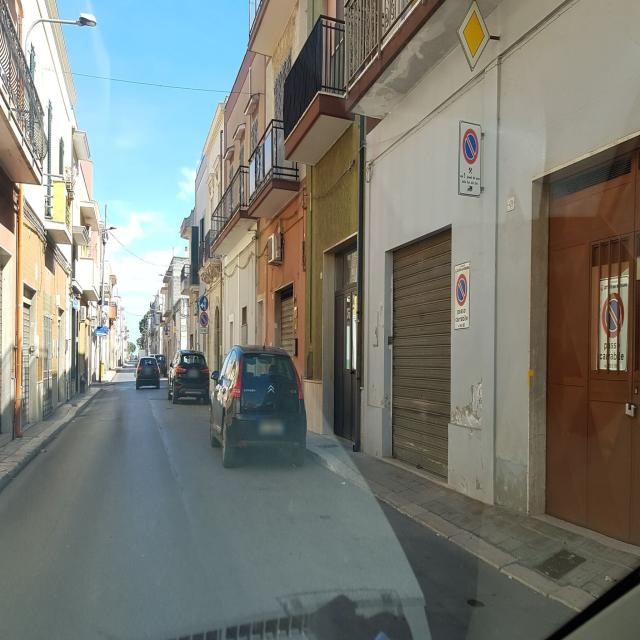forb_stopping: (200, 312, 209, 327)
